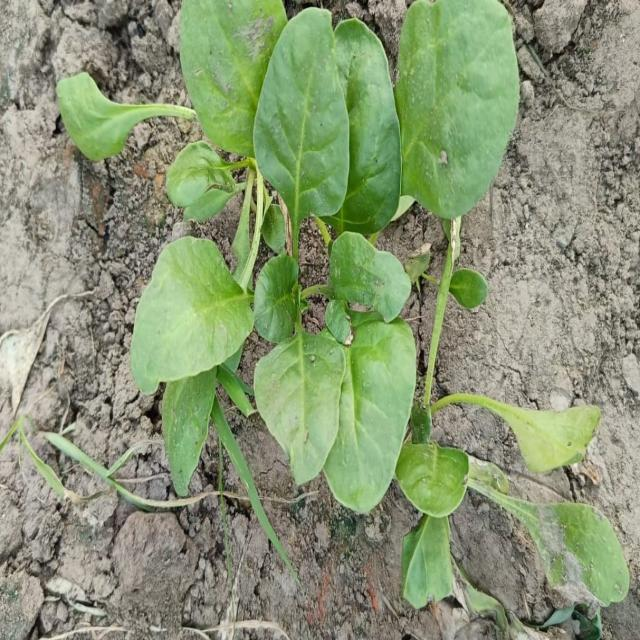plant: (56, 0, 631, 608), (130, 0, 520, 608), (471, 467, 541, 539)
